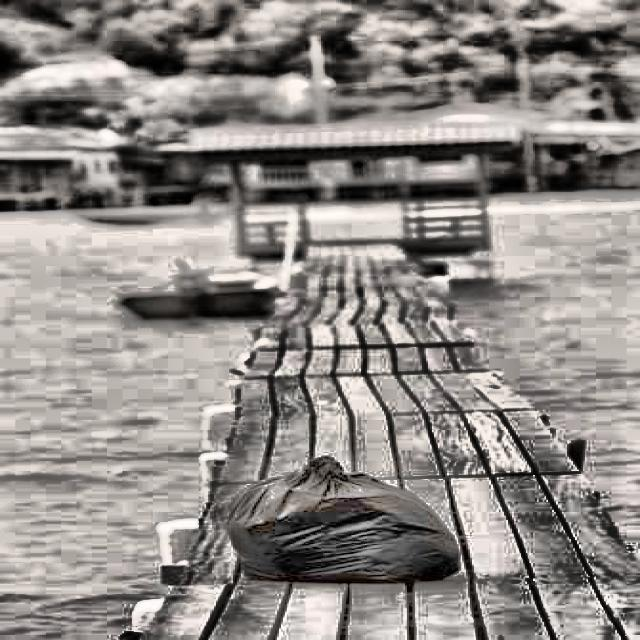Plastic: (202, 450, 484, 608)
